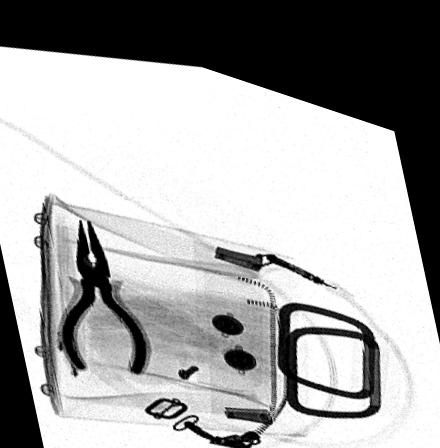Pliers: (57, 212, 146, 369)
